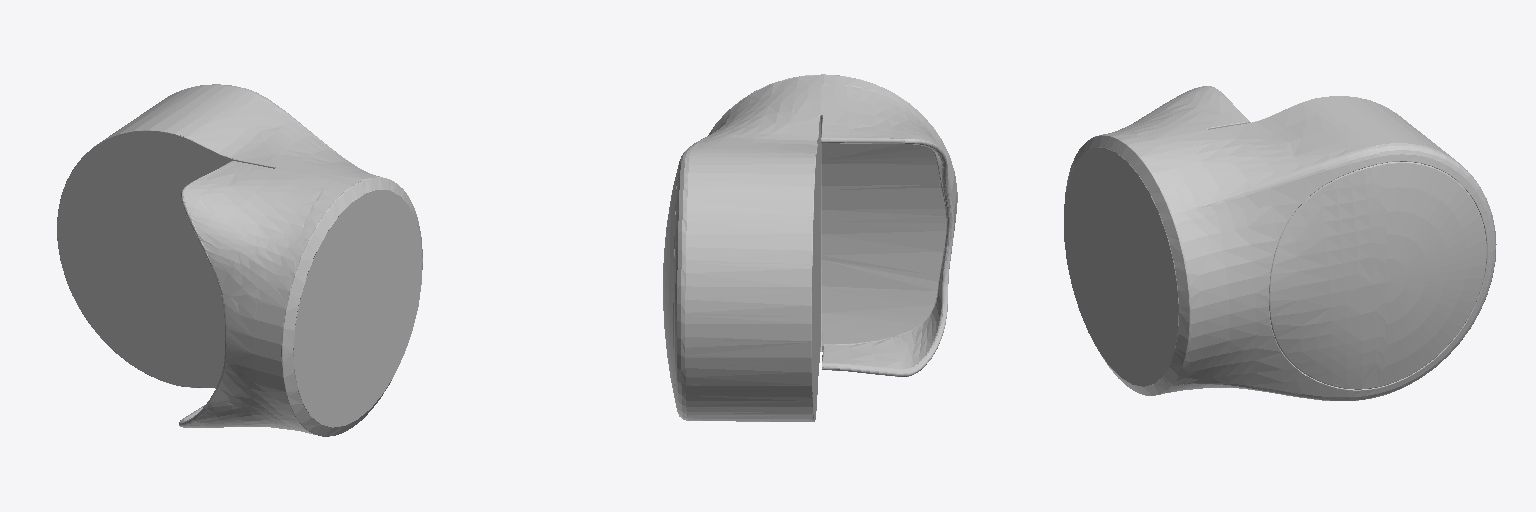
File: arm_right_2.obj
3 renders of one model, left to right at view 1: azimuth 30°, elevation 25°; view 2: azimuth 150°, elevation 25°; view 3: azimuth 270°, elevation 25°, orthographic.
Visible parts, largest first — view 1: arm_right_2; view 2: arm_right_2; view 3: arm_right_2.
Part boxes in pixels (left/top/right/bottom): arm_right_2: left=57, top=84, right=422, bottom=436; arm_right_2: left=663, top=74, right=957, bottom=421; arm_right_2: left=1064, top=86, right=1496, bottom=400.
Size of the model in its own units: 0.1052 by 0.1041 by 0.1624.